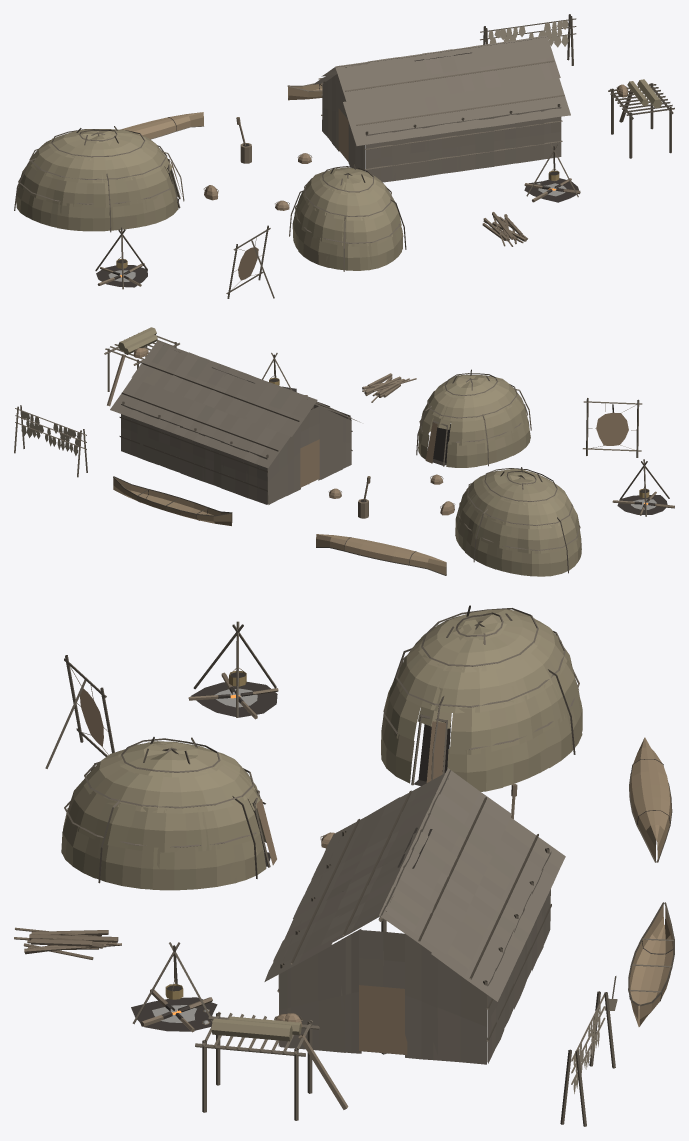
File: potawatomi_trading_lodges_1812__camp_1812.glb
3 renders of one model, top to bottom at view 1: azimuth 30°, elevation 25°; view 2: azimuth 150°, elevation 25°; view 3: azimuth 270°, elevation 25°, orthographic. The views are drawn at different scales.
Visible parts, largest first — view 1: potawatomi_trading_lodges_1812__camp_1812; view 2: potawatomi_trading_lodges_1812__camp_1812; view 3: potawatomi_trading_lodges_1812__camp_1812.
Part boxes in pixels (x1,y1,x2,y2): potawatomi_trading_lodges_1812__camp_1812: (14, 14, 674, 298); potawatomi_trading_lodges_1812__camp_1812: (14, 327, 674, 576); potawatomi_trading_lodges_1812__camp_1812: (14, 605, 674, 1126).
Size of the model in its own units: 22.79 by 3.45 by 14.07.
